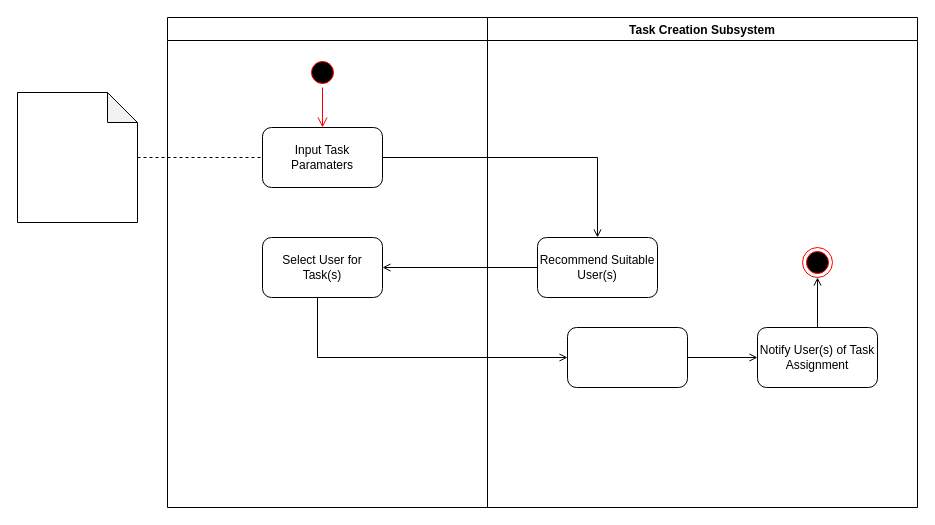
This 935x525 diagram has some shape labels left out. The box of each missing label's shape, as (x1, y1, x2, y2) in pixels:
Add User(s) to Task: (566, 326, 688, 388)
Administrator: (166, 16, 488, 508)
Parameters: Task Name Task Requirements Task Dates: (16, 92, 138, 222)
